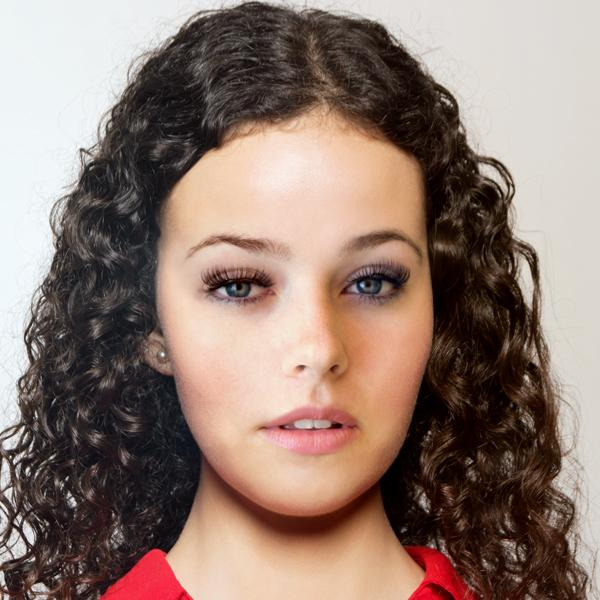Eyes: (328, 255, 409, 312), (194, 261, 281, 313)
